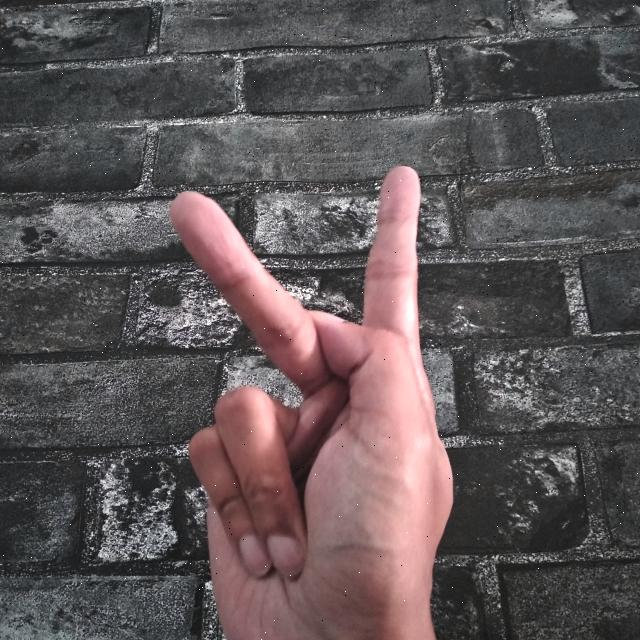K: (149, 161, 463, 640)
